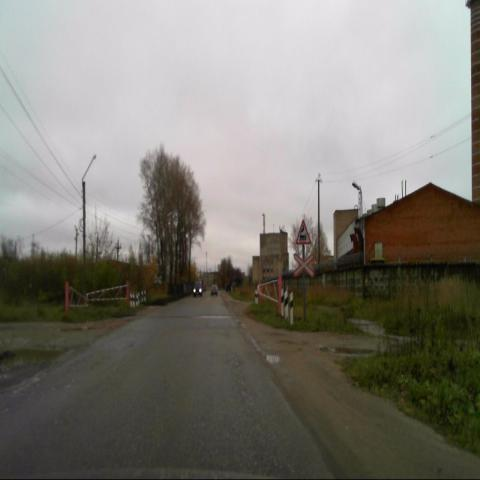1_2: (295, 218, 311, 245)
